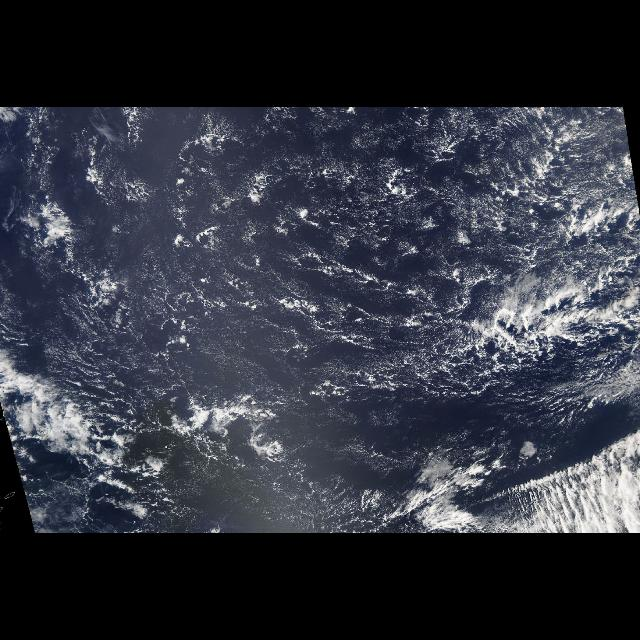Sugar: (28, 110, 596, 443)
